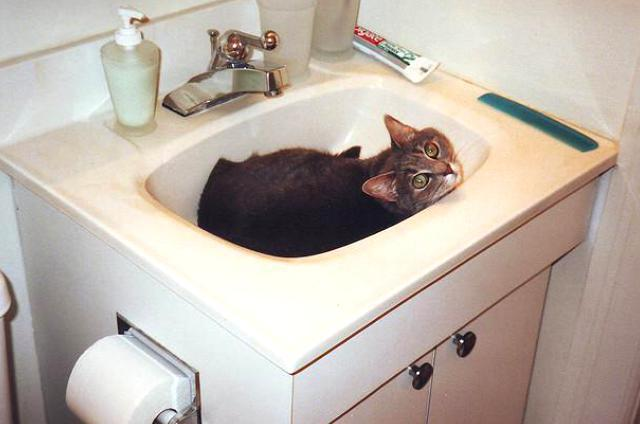Lavamanos: (118, 23, 503, 272)
Otro Obstaculo: (201, 116, 470, 256)
